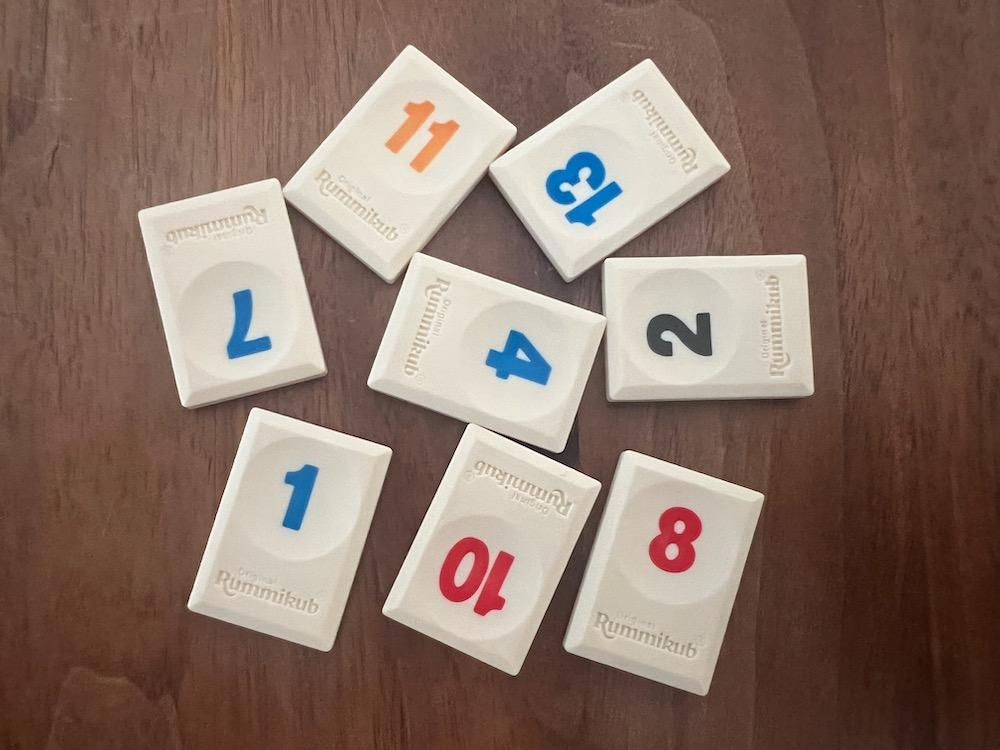black_2: (602, 256, 812, 400)
blue_1: (188, 408, 391, 650)
blue_13: (490, 59, 730, 281)
blue_4: (367, 254, 605, 453)
blue_7: (140, 180, 326, 406)
orange_11: (283, 45, 516, 283)
red_10: (383, 424, 600, 674)
red_8: (564, 453, 764, 695)
